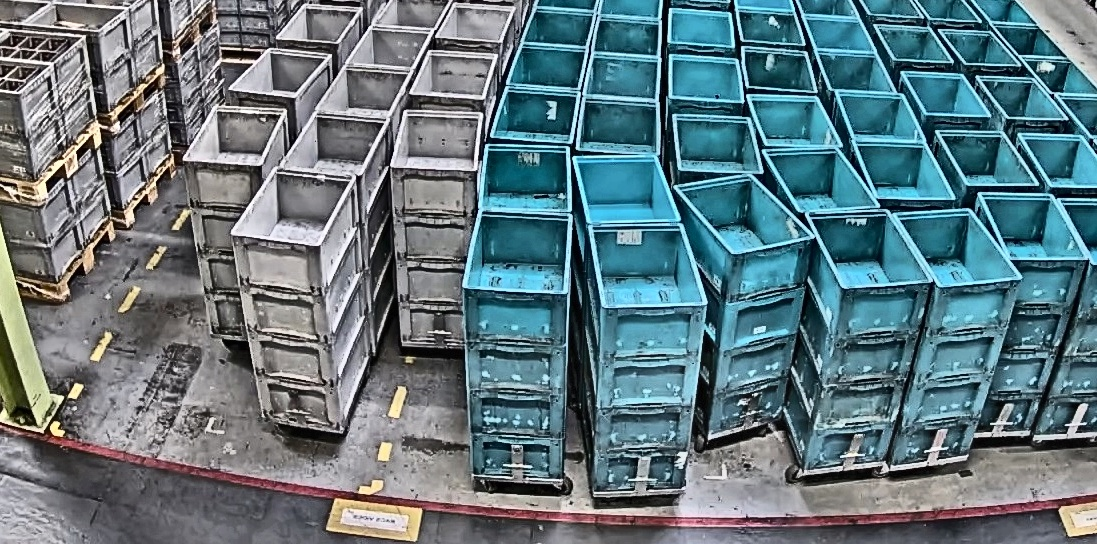4G: (230, 167, 372, 430), (181, 105, 291, 337), (389, 109, 484, 346)
B4: (781, 206, 935, 470), (671, 172, 817, 435), (580, 221, 709, 493), (889, 207, 1023, 468), (461, 207, 574, 480), (963, 191, 1086, 435)
